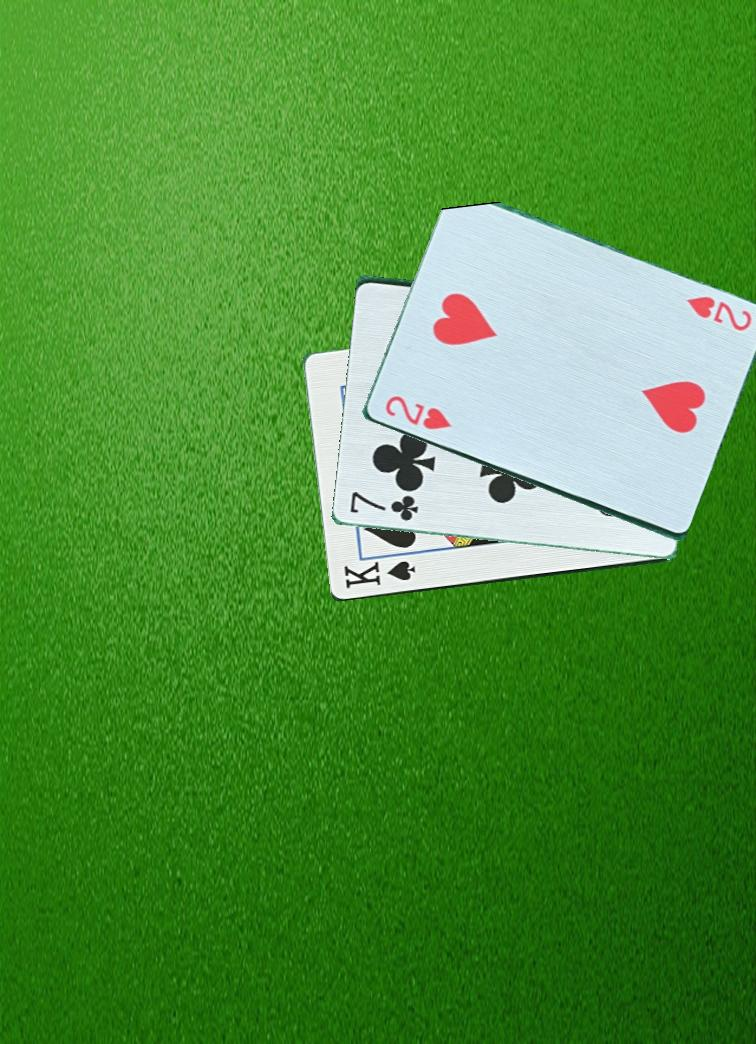2h: (677, 292, 755, 335), (381, 390, 454, 433)
7c: (345, 488, 427, 524)
ks: (340, 557, 418, 592)
